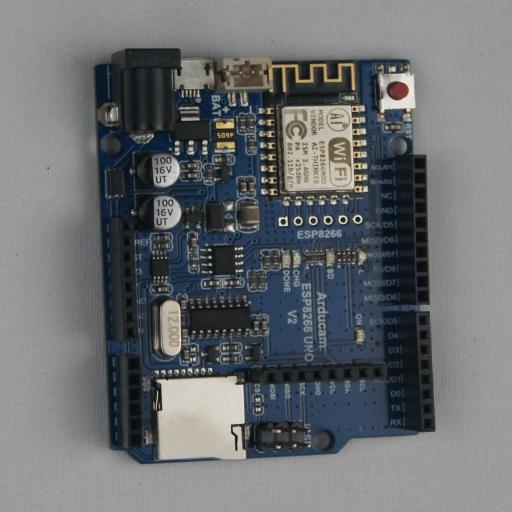Arduino Uno Camera Shield: (85, 48, 435, 464)
